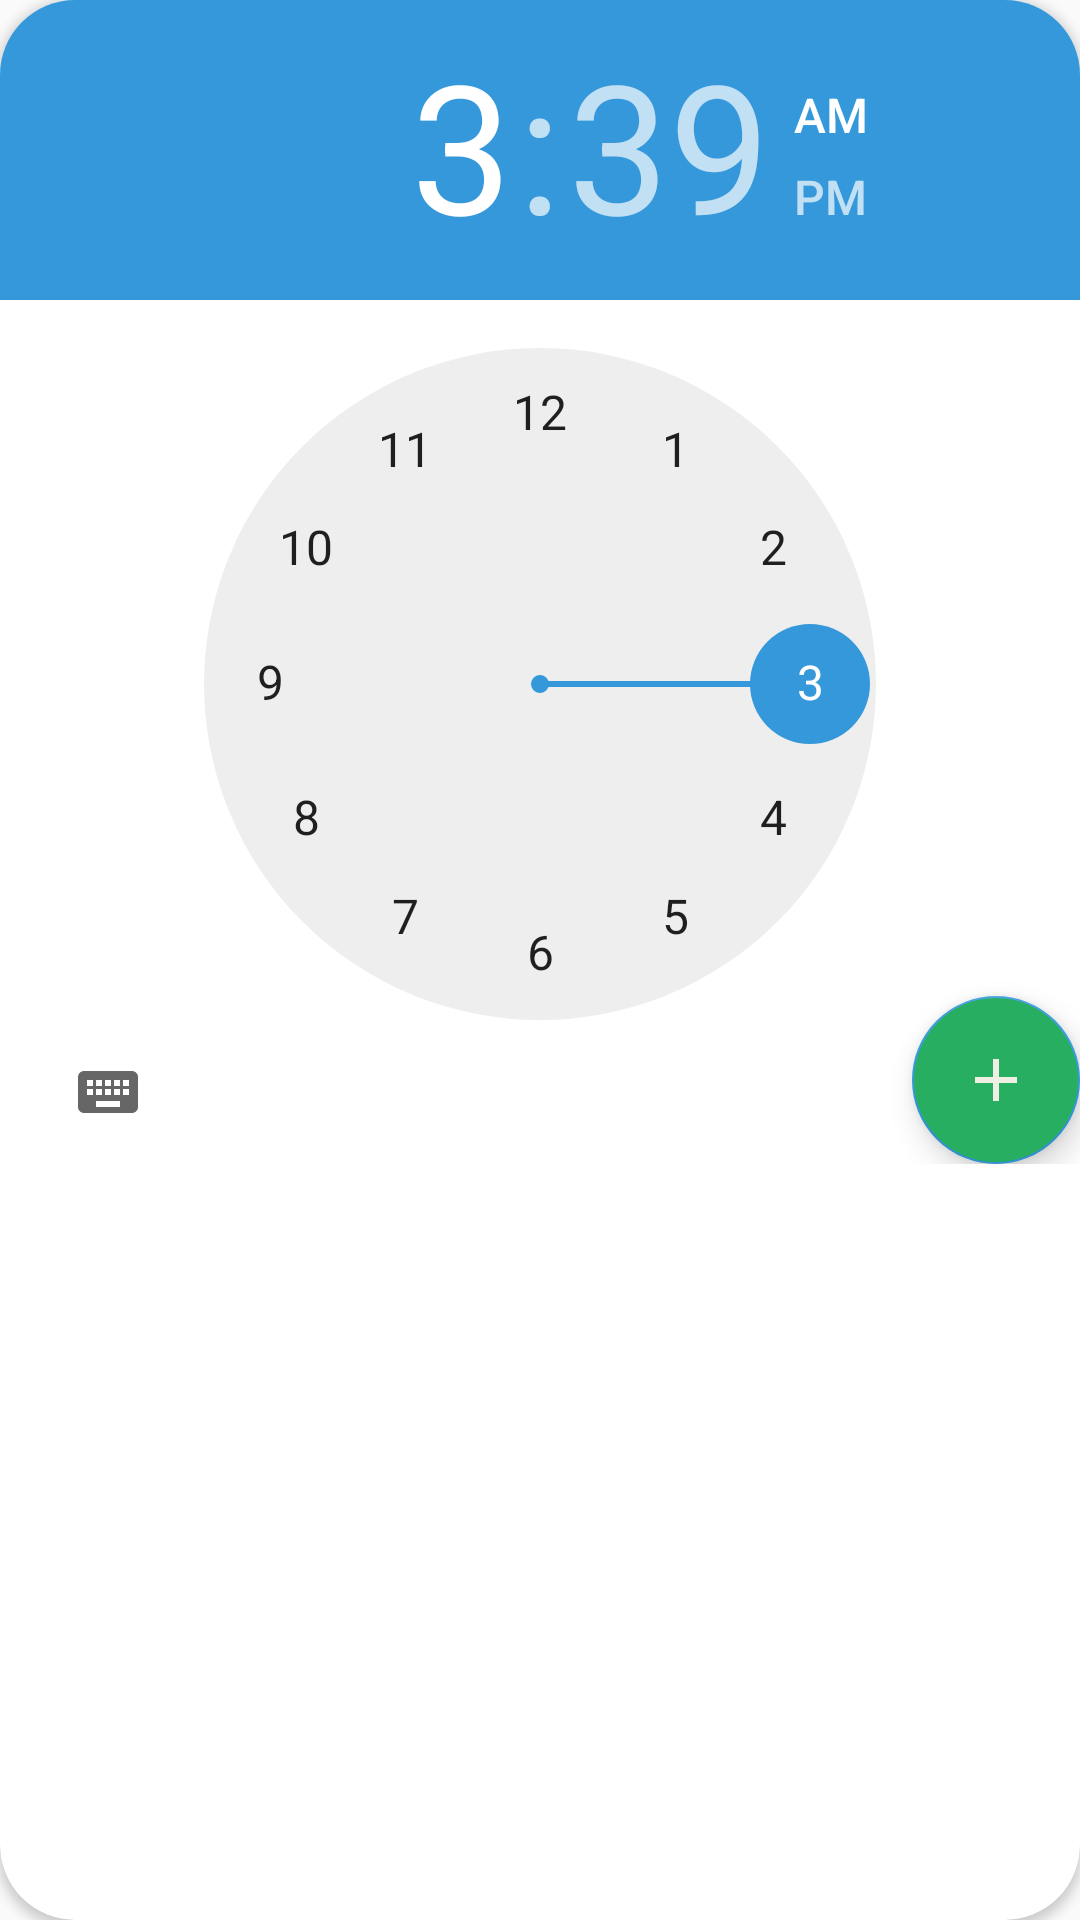

Where icons sit on this 1080 x 1920 app screen, as (x1, y1, x2, y2):
add: (912, 996, 1080, 1164)
